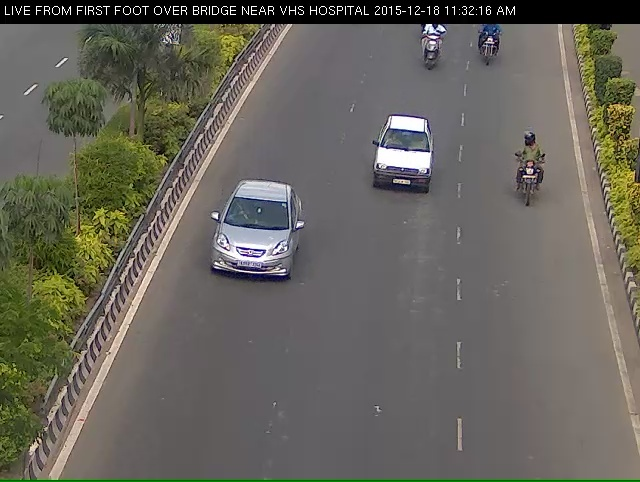Car: (207, 200, 299, 326), (364, 130, 443, 229)
Person: (509, 148, 558, 233), (413, 16, 449, 83), (474, 20, 510, 77)
